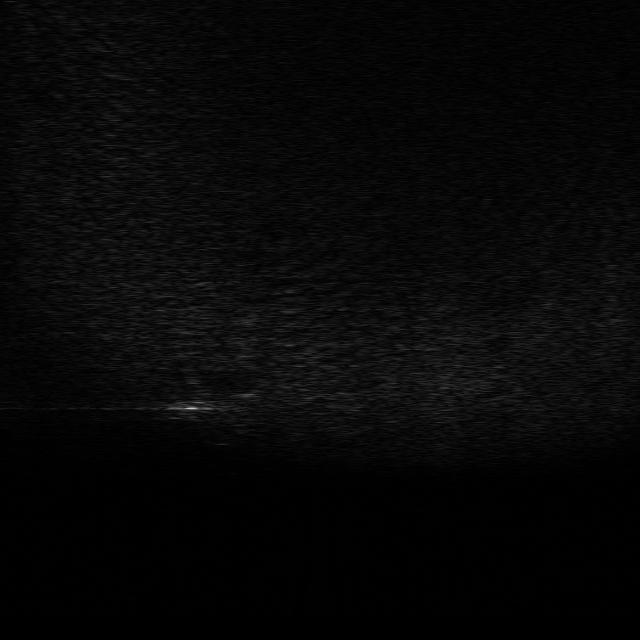plane: (156, 374, 252, 429)
